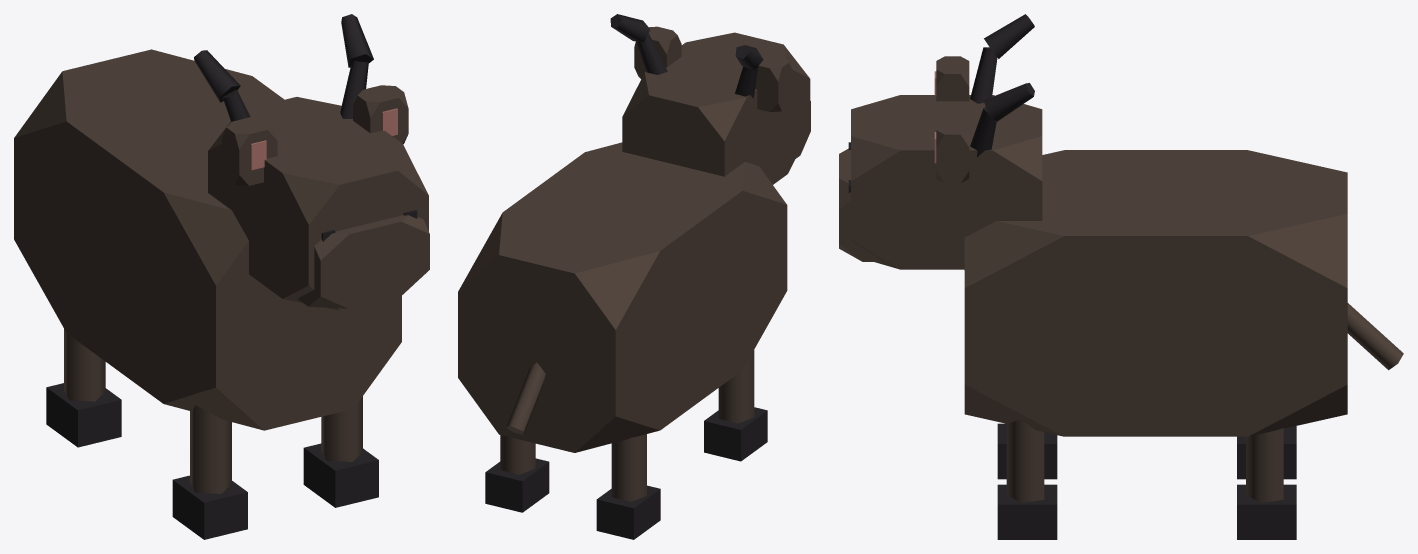
Rendered from original-anoa.glb.
3 views of the same model, side by side, from view 1: azimuth 30°, elevation 25°; view 2: azimuth 150°, elevation 25°; view 3: azimuth 270°, elevation 25° (orthographic). The views are drawn at different scales.
Visible parts, largest first — view 1: anoa; view 2: anoa; view 3: anoa.
Boxes of the visible parts, x1,y1,x2,y2 form: anoa: (14, 14, 429, 539); anoa: (458, 14, 810, 539); anoa: (839, 14, 1403, 539).
Bounding box in the file's own units: 0.6801 × 1.66 × 1.89.
